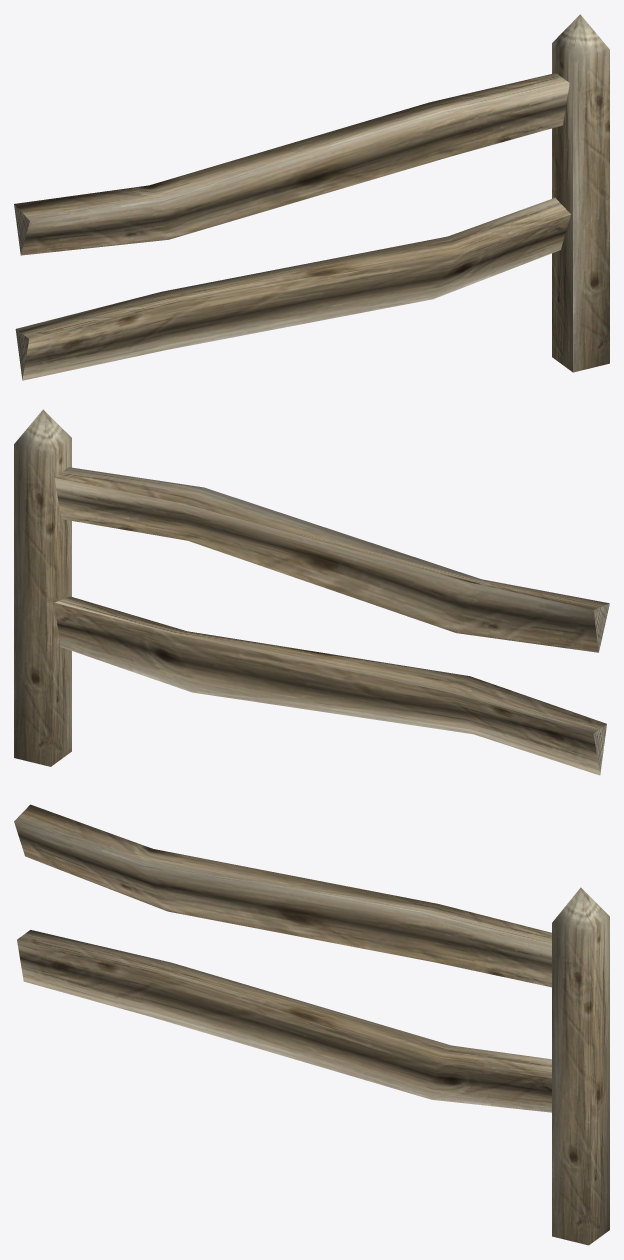
File: westfallfence.glb
The picture shows the model from 3 angles, top to bottom: view 1: azimuth 30°, elevation 25°; view 2: azimuth 150°, elevation 25°; view 3: azimuth 330°, elevation 25°; orthographic projection.
Bounding box in the file's own units: 4.3 × 2.46 × 0.3142.
Materials: 1 (1 with a texture image).
